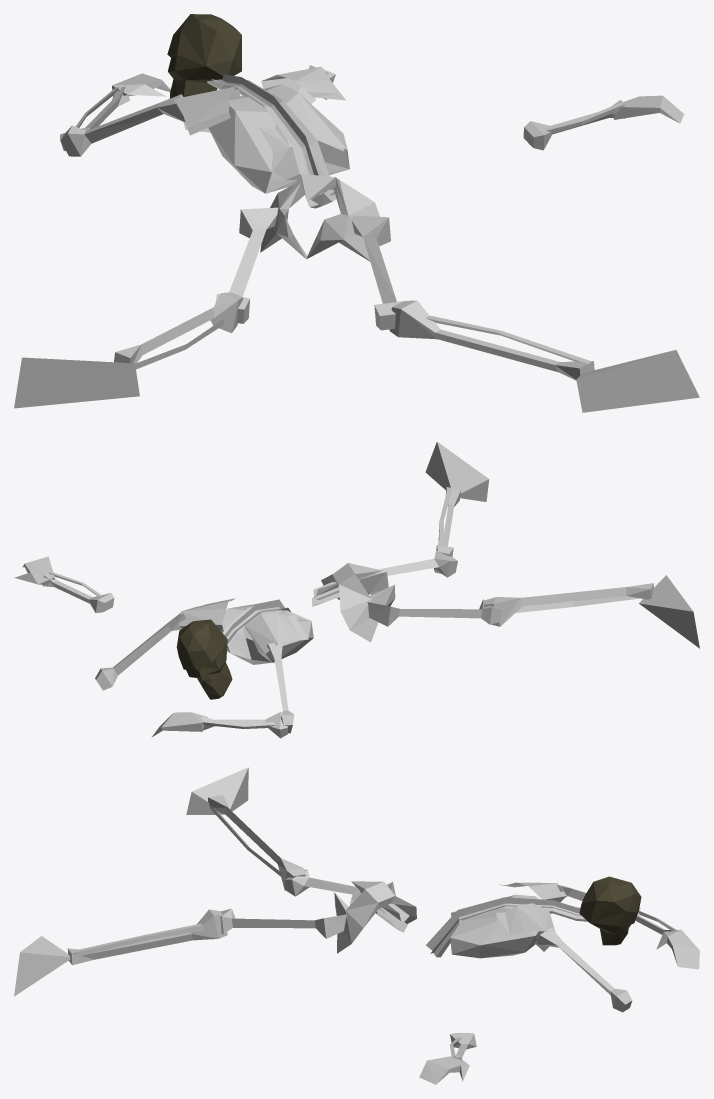
File: ORC_SKELETON_V4.OBJ
3 renders of one model, top to bottom at view 1: azimuth 30°, elevation 25°; view 2: azimuth 150°, elevation 25°; view 3: azimuth 270°, elevation 25°, orthographic. The views are drawn at different scales.
Visible parts, largest first — view 1: ORC_SKELETON_V4; view 2: ORC_SKELETON_V4; view 3: ORC_SKELETON_V4.
Part boxes in pixels (x1,y1,x2,y2): ORC_SKELETON_V4: (14, 14, 699, 412); ORC_SKELETON_V4: (14, 441, 699, 738); ORC_SKELETON_V4: (14, 767, 699, 1084).
Size of the model in its own units: 2.11 by 0.2934 by 2.11.
